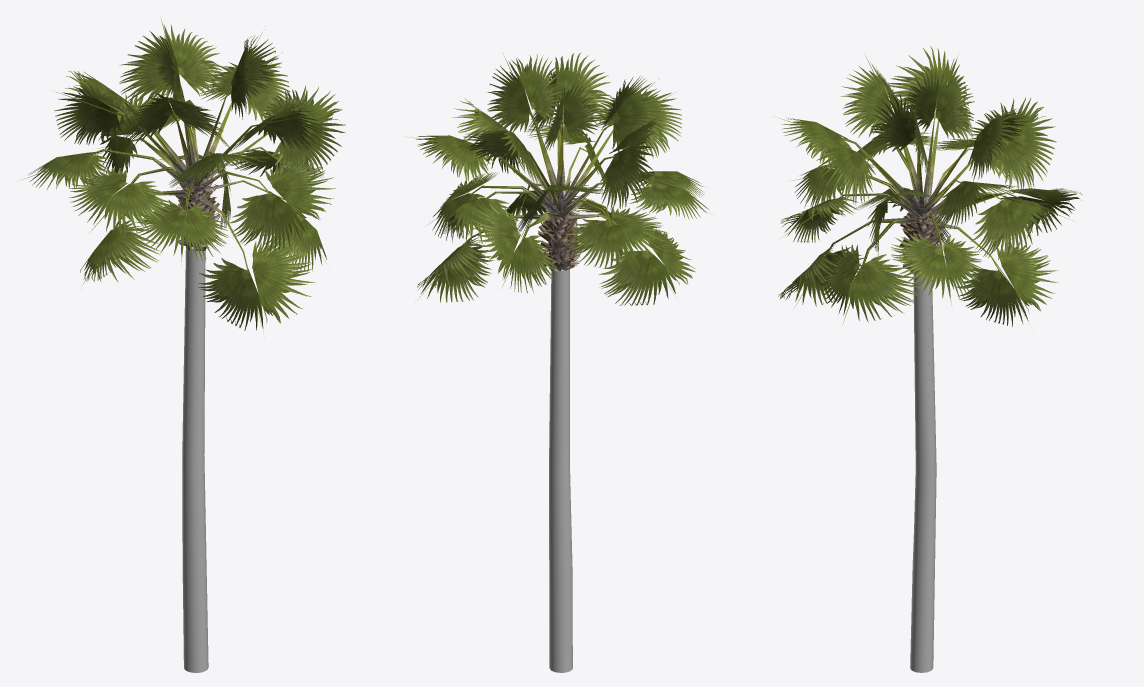
The model's file is Mexican_Palmetto_Model_0.obj.
The picture shows the model from 3 angles, left to right: view 1: azimuth 30°, elevation 25°; view 2: azimuth 150°, elevation 25°; view 3: azimuth 270°, elevation 25°; orthographic projection. The views are drawn at different scales.
Parts seen in each view (by area): view 1: Foliage, Bark; view 2: Foliage, Bark; view 3: Foliage, Bark.
Part boxes in pixels (x1=…): Foliage: x1=22, y1=19, x2=345, y2=331; Bark: x1=182, y1=247, x2=208, y2=672; Foliage: x1=406, y1=52, x2=708, y2=305; Bark: x1=549, y1=269, x2=572, y2=672; Foliage: x1=778, y1=46, x2=1081, y2=326; Bark: x1=910, y1=272, x2=936, y2=672.
Size of the model in its own units: 7.65 by 15 by 8.24.
